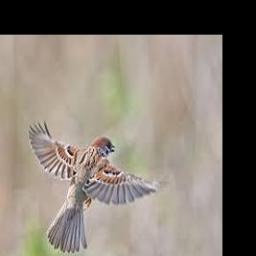Sparrow: (28, 119, 166, 253)
